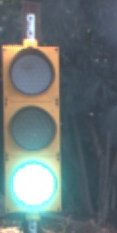Green: (3, 23, 77, 218)
